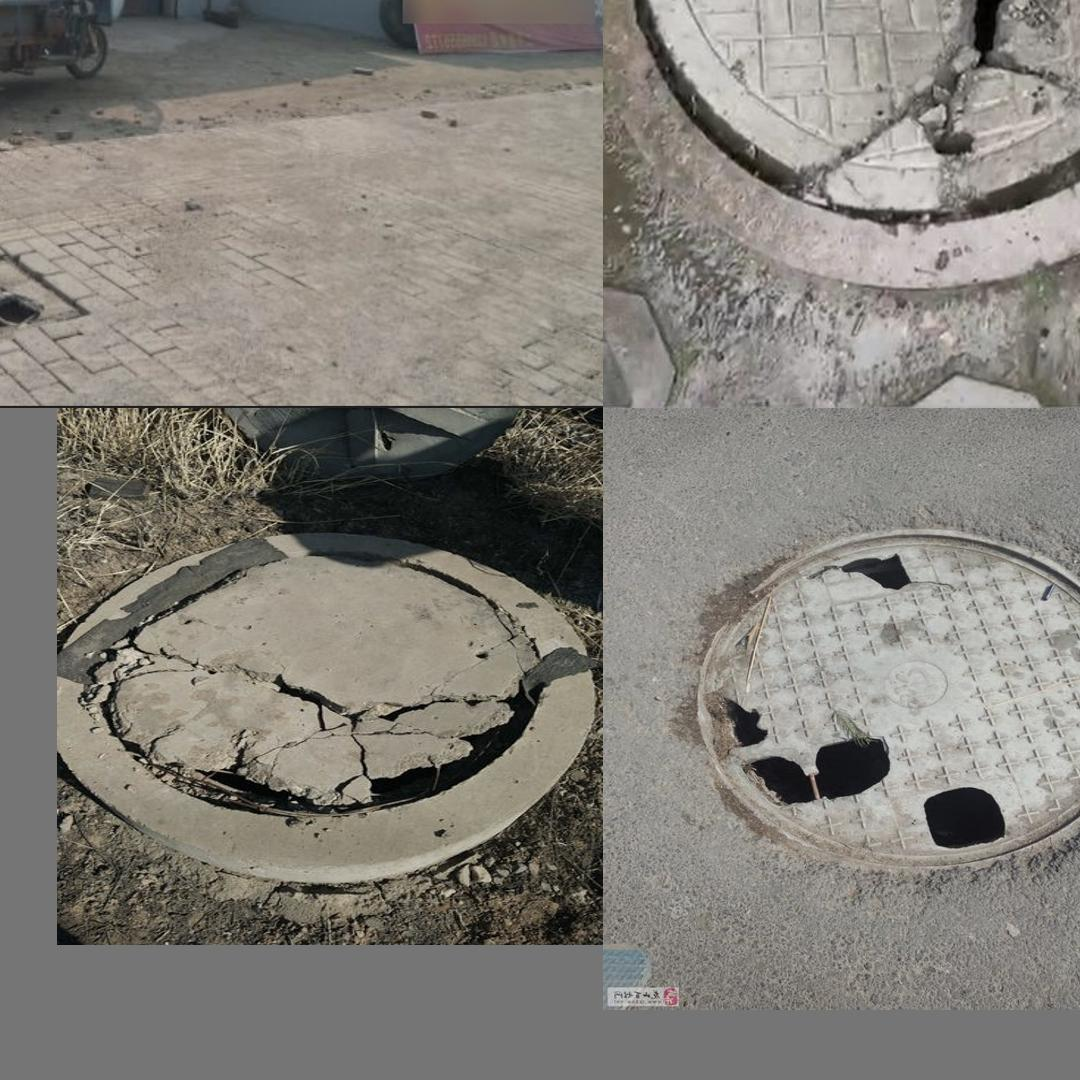broke: (73, 529, 577, 875), (663, 518, 1080, 881), (625, 0, 1080, 296), (0, 251, 90, 400)
